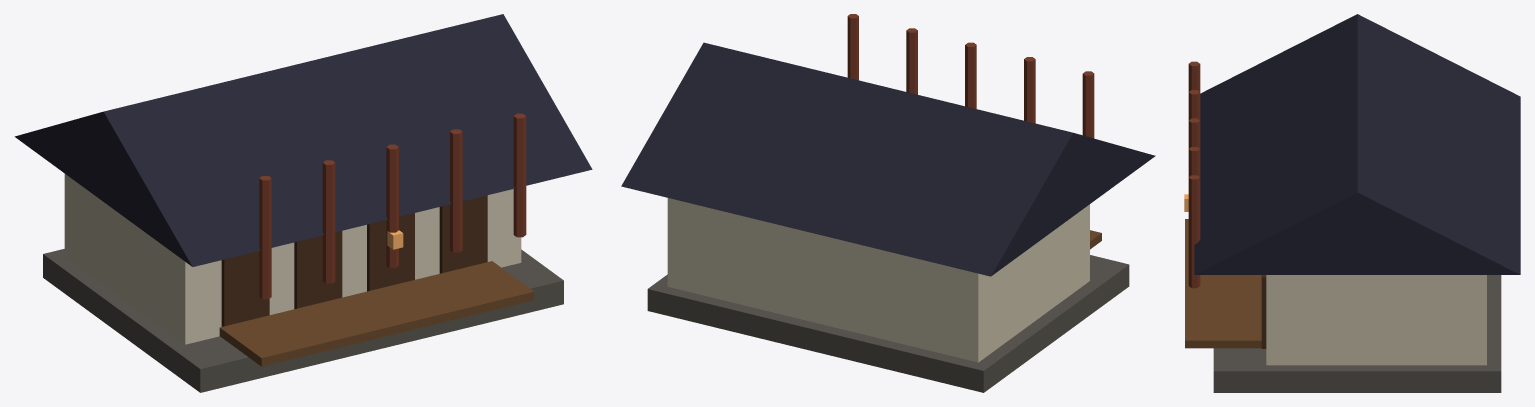
Rendered from harbor_gaekju_house.glb.
The picture shows the model from 3 angles, left to right: view 1: azimuth 30°, elevation 25°; view 2: azimuth 150°, elevation 25°; view 3: azimuth 270°, elevation 25°; orthographic projection. The views are drawn at different scales.
Parts seen in each view (by area): view 1: harbor_gaekju_house; view 2: harbor_gaekju_house; view 3: harbor_gaekju_house.
Boxes of the visible parts, box(x1,y1,x2,y2) form: harbor_gaekju_house: box(14, 14, 592, 392); harbor_gaekju_house: box(621, 14, 1155, 392); harbor_gaekju_house: box(1184, 14, 1520, 392).
Size of the model in its own units: 8.8 by 4.8 by 7.01.
